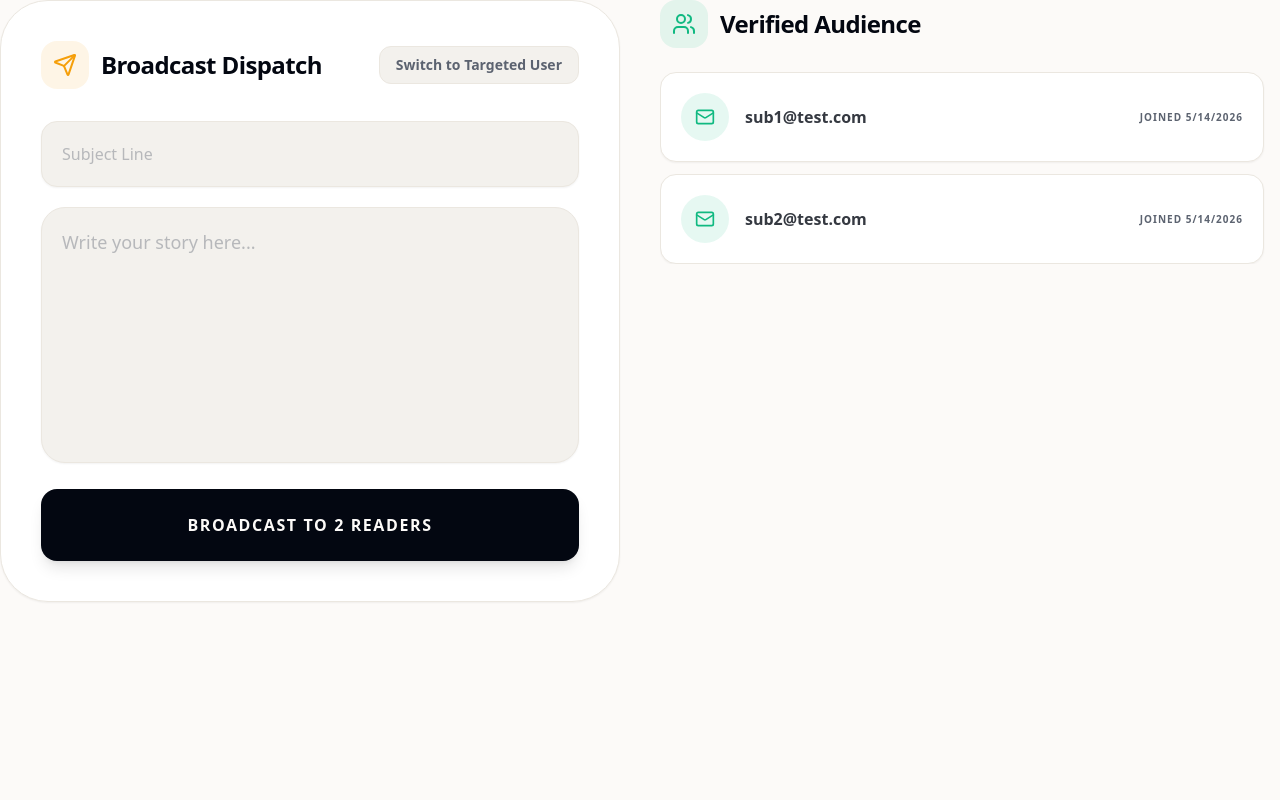
NewsletterManager Page › should switch to targeted email mode
The image size is (1280, 800).
Expected: the text "sub1@test.com" is shown, [745,105,867,129]
Click the button "Switch to Targeted User". click: (479,65)
box: [379,46,579,84]
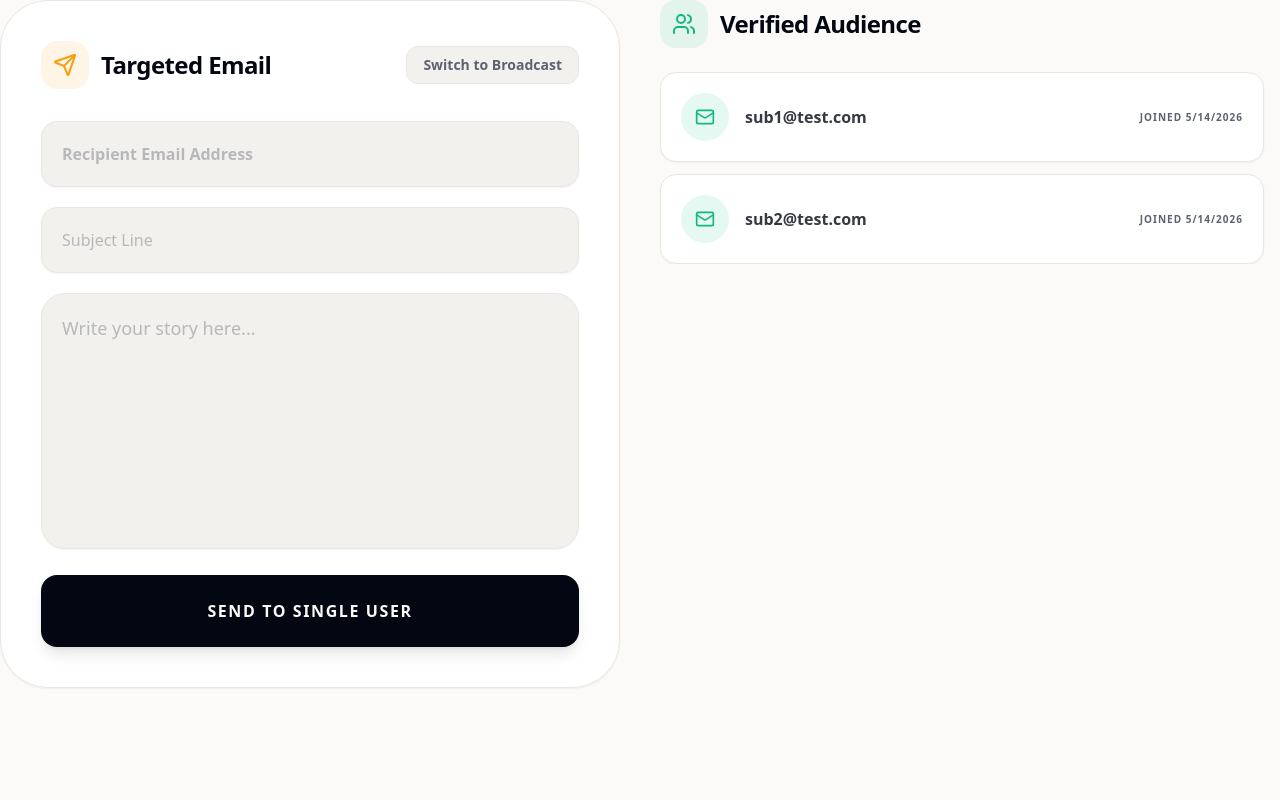
Result: the heading "Targeted Email" is shown at [41,41,271,89]
Result: the field labelled "Recipient Email" is shown at [41,121,579,187]
